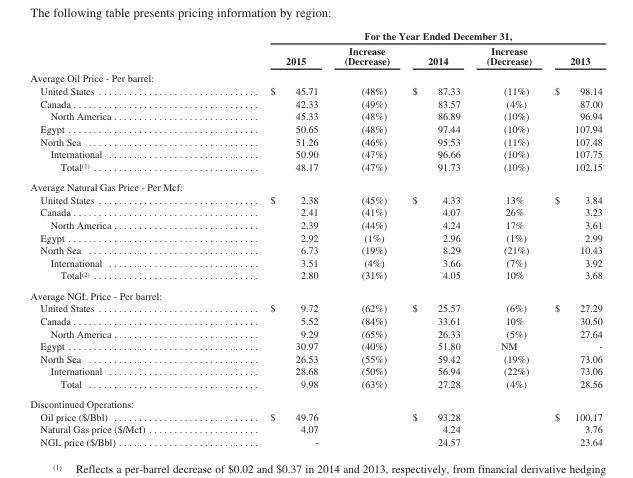table: (29, 29, 601, 447)
table column: (29, 29, 207, 447), (207, 29, 330, 447), (400, 29, 472, 447), (330, 29, 400, 447), (472, 29, 542, 447), (542, 29, 601, 447)
table column header: (29, 29, 601, 69)
table projected row header: (29, 393, 601, 410), (29, 176, 601, 192), (29, 285, 601, 301), (29, 69, 601, 84)
table row: (29, 42, 601, 69), (29, 268, 601, 285), (29, 393, 601, 410), (29, 160, 601, 176), (29, 176, 601, 192), (29, 285, 601, 301), (29, 377, 601, 393), (29, 69, 601, 84), (29, 29, 601, 42), (29, 96, 601, 109), (29, 109, 601, 122), (29, 134, 601, 147), (29, 147, 601, 160), (29, 192, 601, 205), (29, 205, 601, 218), (29, 230, 601, 243), (29, 243, 601, 256), (29, 301, 601, 314), (29, 326, 601, 339), (29, 339, 601, 352), (29, 364, 601, 377), (29, 422, 601, 435), (29, 84, 601, 96), (29, 122, 601, 134), (29, 218, 601, 230), (29, 256, 601, 268), (29, 314, 601, 326), (29, 352, 601, 364), (29, 410, 601, 422), (29, 435, 601, 447)
table spanning cell: (207, 29, 601, 42)
